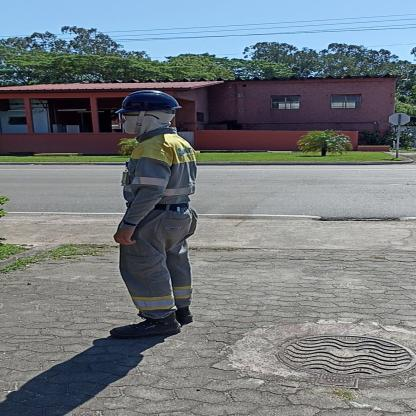Balaclava: (121, 110, 177, 136)
Capacete: (113, 89, 185, 113)
